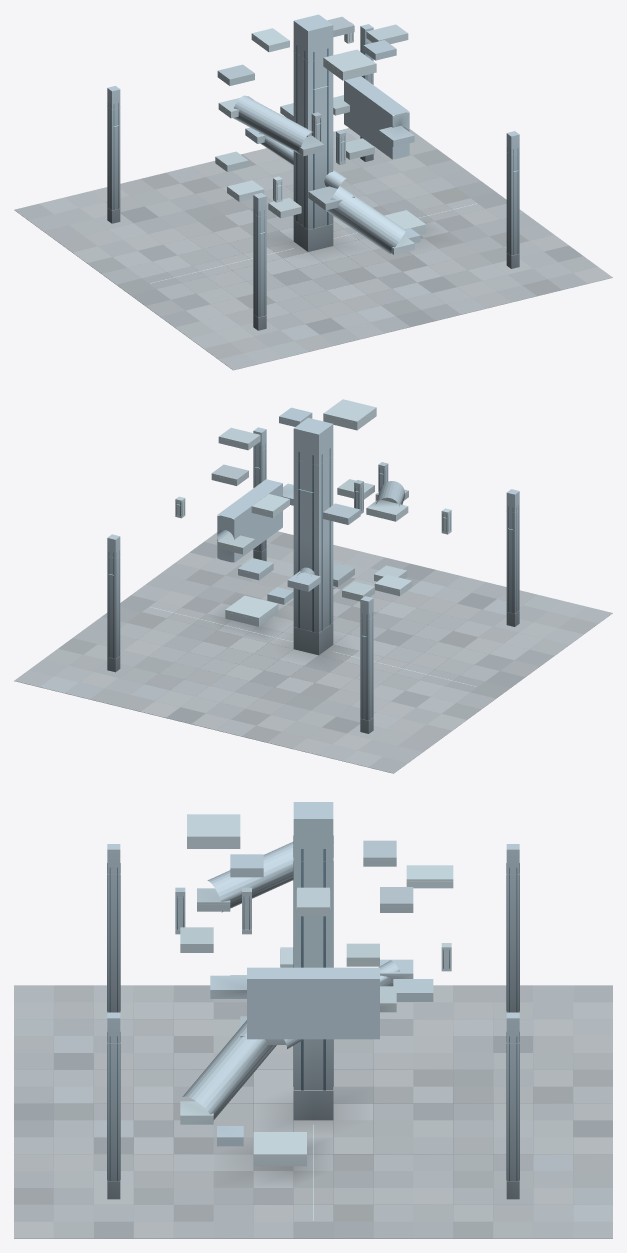
File: 01_world.glb
3 renders of one model, top to bottom at view 1: azimuth 30°, elevation 25°; view 2: azimuth 150°, elevation 25°; view 3: azimuth 270°, elevation 25°, orthographic. The views are drawn at different scales.
Visible parts, largest first — view 1: world_11_floor_noshadow_nocol, world_01_floor_noshadow_nocol, world_00_floor_noshadow_nocol, world_11_body_nocol, world_10_floor_noshadow_nocol, world_01_body_nocol, world_00_body_nocol, world_11_foam_nocol, world_11_panel_noshadow_nocol, world_01_foam_nocol, world_10_foam_nocol, world_10_body_nocol (+3 smaller); view 2: world_10_floor_noshadow_nocol, world_01_floor_noshadow_nocol, world_00_floor_noshadow_nocol, world_11_body_nocol, world_11_floor_noshadow_nocol, world_11_foam_nocol, world_00_body_nocol, world_10_body_nocol, world_01_body_nocol, world_01_foam_nocol, world_11_panel_noshadow_nocol, world_10_foam_nocol (+3 smaller); view 3: world_11_floor_noshadow_nocol, world_10_floor_noshadow_nocol, world_00_floor_noshadow_nocol, world_11_body_nocol, world_01_floor_noshadow_nocol, world_11_foam_nocol, world_01_body_nocol, world_10_body_nocol, world_00_body_nocol, world_11_panel_noshadow_nocol, world_10_foam_nocol, world_01_panel_noshadow_nocol (+3 smaller).
Part boxes in pixels (x1,y1,x2,y2): world_11_floor_noshadow_nocol: [308, 192, 612, 326]; world_01_floor_noshadow_nocol: [117, 241, 422, 370]; world_00_floor_noshadow_nocol: [14, 166, 293, 289]; world_11_body_nocol: [293, 14, 519, 268]; world_10_floor_noshadow_nocol: [191, 128, 495, 240]; world_01_body_nocol: [233, 95, 345, 330]; world_00_body_nocol: [107, 64, 346, 223]; world_11_foam_nocol: [323, 24, 425, 254]; world_11_panel_noshadow_nocol: [296, 45, 518, 255]; world_01_foam_nocol: [218, 96, 301, 218]; world_10_foam_nocol: [251, 22, 353, 115]; world_10_body_nocol: [280, 16, 373, 161]; world_10_floor_noshadow_nocol: [14, 607, 318, 729]; world_01_floor_noshadow_nocol: [319, 570, 612, 698]; world_00_floor_noshadow_nocol: [204, 655, 502, 773]; world_11_body_nocol: [217, 407, 354, 655]; world_11_floor_noshadow_nocol: [120, 531, 435, 648]; world_11_foam_nocol: [218, 399, 376, 626]; world_00_body_nocol: [287, 503, 373, 733]; world_10_body_nocol: [107, 464, 273, 672]; world_01_body_nocol: [354, 462, 519, 626]; world_01_foam_nocol: [366, 499, 451, 596]; world_11_panel_noshadow_nocol: [255, 443, 330, 631]; world_10_foam_nocol: [175, 494, 289, 554]; world_11_floor_noshadow_nocol: [14, 1103, 333, 1238]; world_10_floor_noshadow_nocol: [313, 1103, 612, 1238]; world_00_floor_noshadow_nocol: [333, 985, 612, 1111]; world_11_body_nocol: [107, 802, 379, 1199]; world_01_floor_noshadow_nocol: [14, 985, 293, 1111]; world_11_foam_nocol: [180, 814, 329, 1166]; world_01_body_nocol: [107, 842, 293, 1012]; world_10_body_nocol: [380, 887, 519, 1199]; world_00_body_nocol: [284, 840, 519, 1048]; world_11_panel_noshadow_nocol: [107, 835, 333, 1180]; world_10_foam_nocol: [380, 865, 453, 1012]; world_01_panel_noshadow_nocol: [107, 863, 249, 1012].
Bounding box in the file's own units: 180 × 100 × 180.
